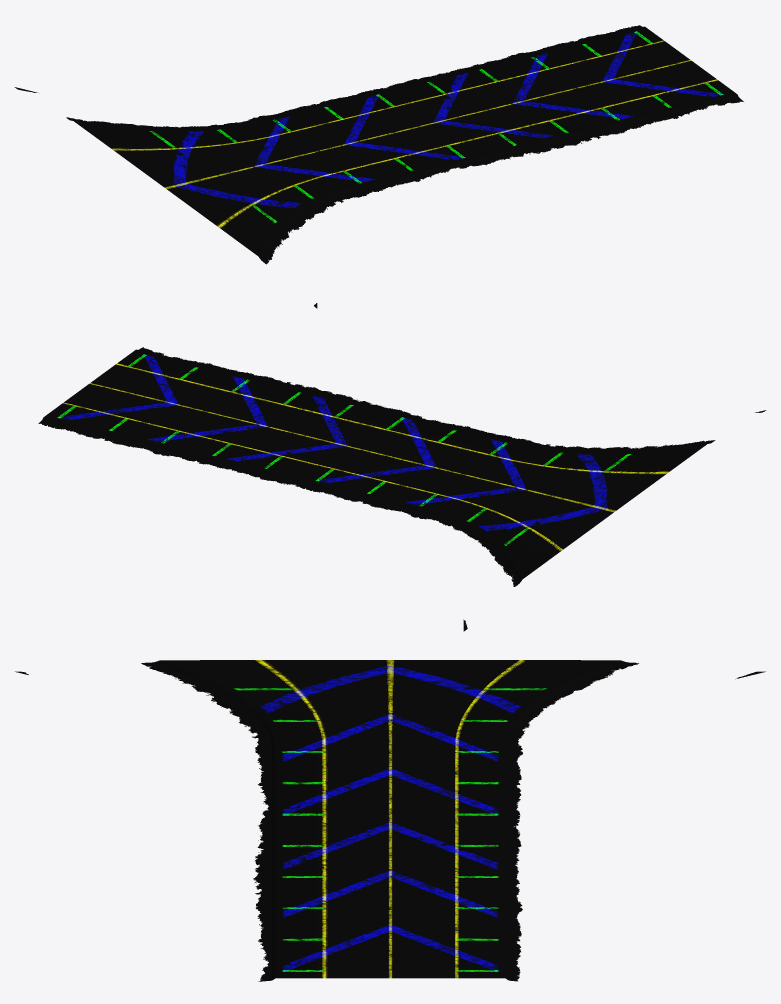
3 renders of one model, top to bottom at view 1: azimuth 30°, elevation 25°; view 2: azimuth 150°, elevation 25°; view 3: azimuth 270°, elevation 25°, orthographic. The views are drawn at different scales.
Parts seen in each view (by area): view 1: SM_Road_Connection_01_LOD0; view 2: SM_Road_Connection_01_LOD0; view 3: SM_Road_Connection_01_LOD0.
Part boxes in pixels (left/top/right/bottom): SM_Road_Connection_01_LOD0: left=14, top=25, right=743, bottom=308; SM_Road_Connection_01_LOD0: left=38, top=347, right=766, bottom=631; SM_Road_Connection_01_LOD0: left=15, top=660, right=765, bottom=981.
Bounding box in the file's own units: 4000 × 4000 × 67.65.
1 material, 1 textured.
